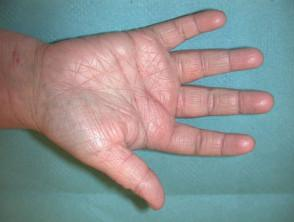Eczema: (8, 46, 28, 74)
